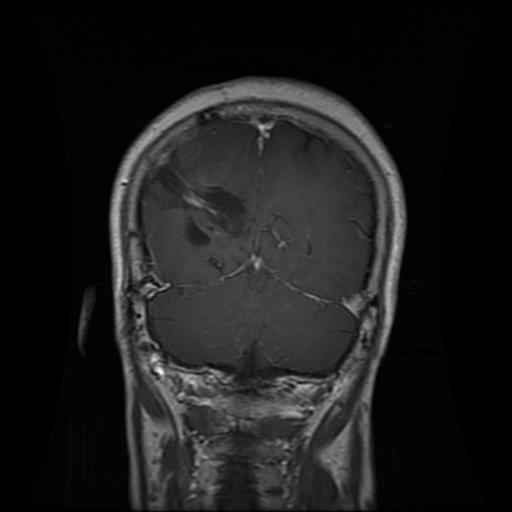Gliomia_tumour: (156, 150, 246, 246)
